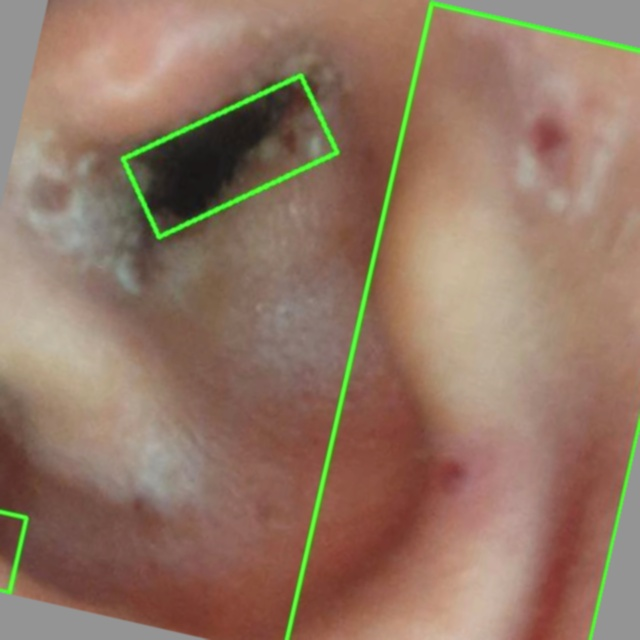Contact Dermatitis: (285, 1, 639, 639), (122, 74, 337, 236)
